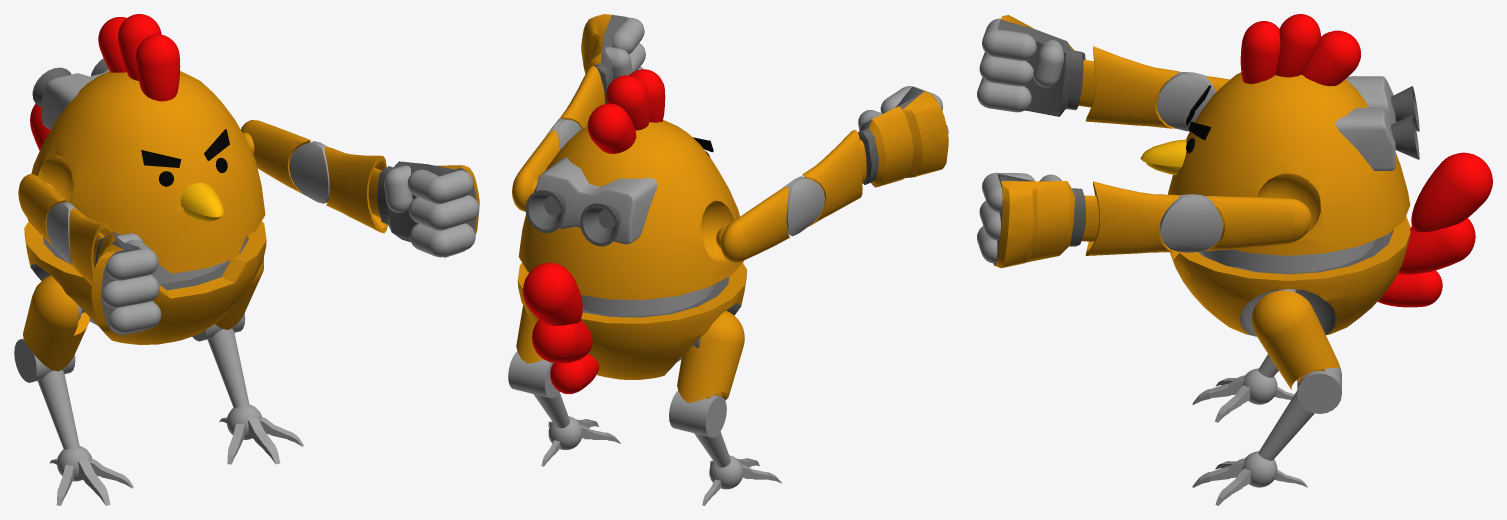
Rendered from MechaChicken.glb.
3 views of the same model, side by side, from view 1: azimuth 30°, elevation 25°; view 2: azimuth 150°, elevation 25°; view 3: azimuth 270°, elevation 25° (orthographic). The views are drawn at different scales.
Parts seen in each view (by area): view 1: BodyTop, BodyBottom, FIstL, FIstR, ThighR, ArmLowerL, Comb01, ArmUpperL, polySurface166, FootL, FootR, ElbowL (+12 smaller); view 2: BodyTop, BodyBottom, polySurface166, FIstR, ThighR, FIstL, ArmUpperR, ArmLowerR, Tail01, Tail02, Tube, KneeR (+14 smaller); view 3: BodyTop, BodyBottom, FIstL, FIstR, ArmLowerR, polySurface166, ArmLowerL, ThighL, ArmUpperL, Tail01, ElbowL, Tail02 (+11 smaller).
Part boxes in pixels (x1,y1,x2,y2): BodyTop: (27,71,265,273); BodyBottom: (24,221,266,344); FIstL: (377,161,479,257); FIstR: (91,231,161,335); ThighR: (23,275,89,371); ArmLowerL: (324,146,387,233); Comb01: (136,34,180,101); ArmUpperL: (241,120,310,195); polySurface166: (32,58,109,129); FootL: (219,404,303,464); FootR: (49,446,133,505); ElbowL: (289,141,329,203); BodyTop: (518,120,743,299); BodyBottom: (517,263,746,379); polySurface166: (525,157,657,246); FIstR: (858,86,948,187); ThighR: (677,310,744,402); FIstL: (581,14,645,103); ArmUpperR: (716,186,789,262); ArmLowerR: (802,130,866,226); Tail01: (523,262,582,325); Tail02: (532,320,592,363); Tube: (581,284,715,316); KneeR: (669,390,726,437); BodyTop: (1168,72,1410,255); BodyBottom: (1170,216,1410,336); FIstL: (977,172,1085,268); FIstR: (977,15,1085,116); ArmLowerR: (1078,46,1179,128); polySurface166: (1335,76,1419,170); ArmLowerL: (1081,181,1179,255); ThighL: (1251,290,1340,389); ArmUpperL: (1203,196,1311,250); Tail01: (1411,152,1492,231); ElbowL: (1159,194,1222,252); Tail02: (1398,218,1475,274).
Bounding box in the file's own units: 20.01 × 21.14 × 23.01.
